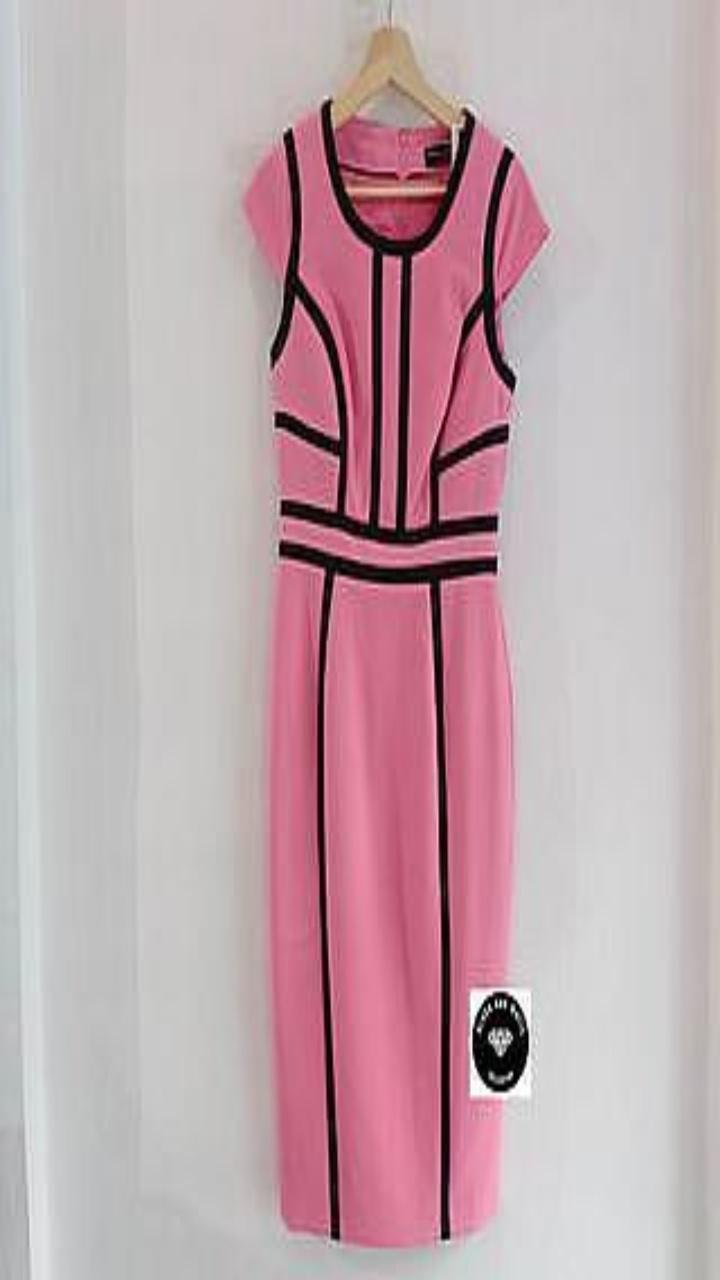Dresses: (243, 101, 547, 1245)
